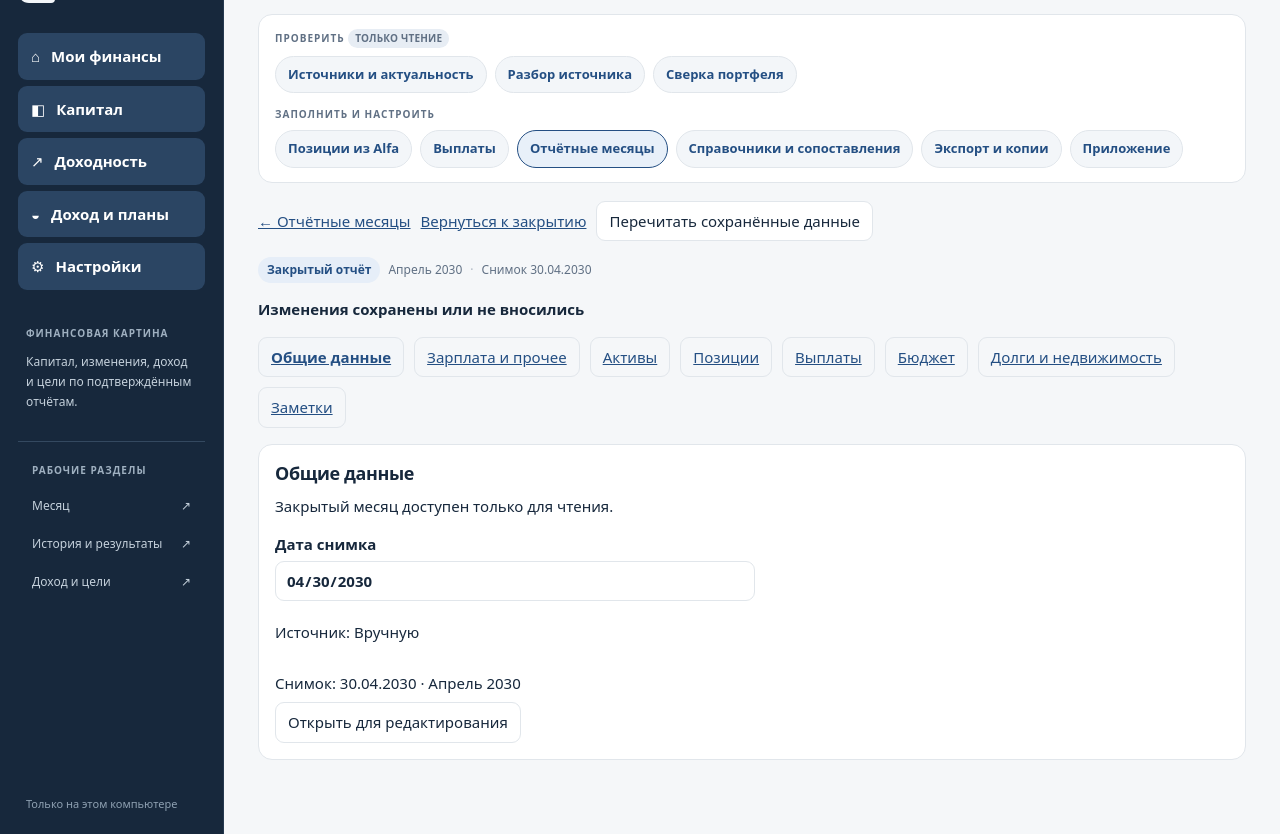
native month editor frame › keeps CLOSED read-only and refreshes after explicit reopen
The width and height of the screenshot is (1280, 834).
(page scrolled)
Expected: the element named "Общие данные месяца" is shown, [258,444,1246,760]
Expected: the date field labelled "Дата снимка" is disabled, [275,561,755,601]
Click the button "Открыть для редактирования" at x=398, y=723, box [275,702,521,743]
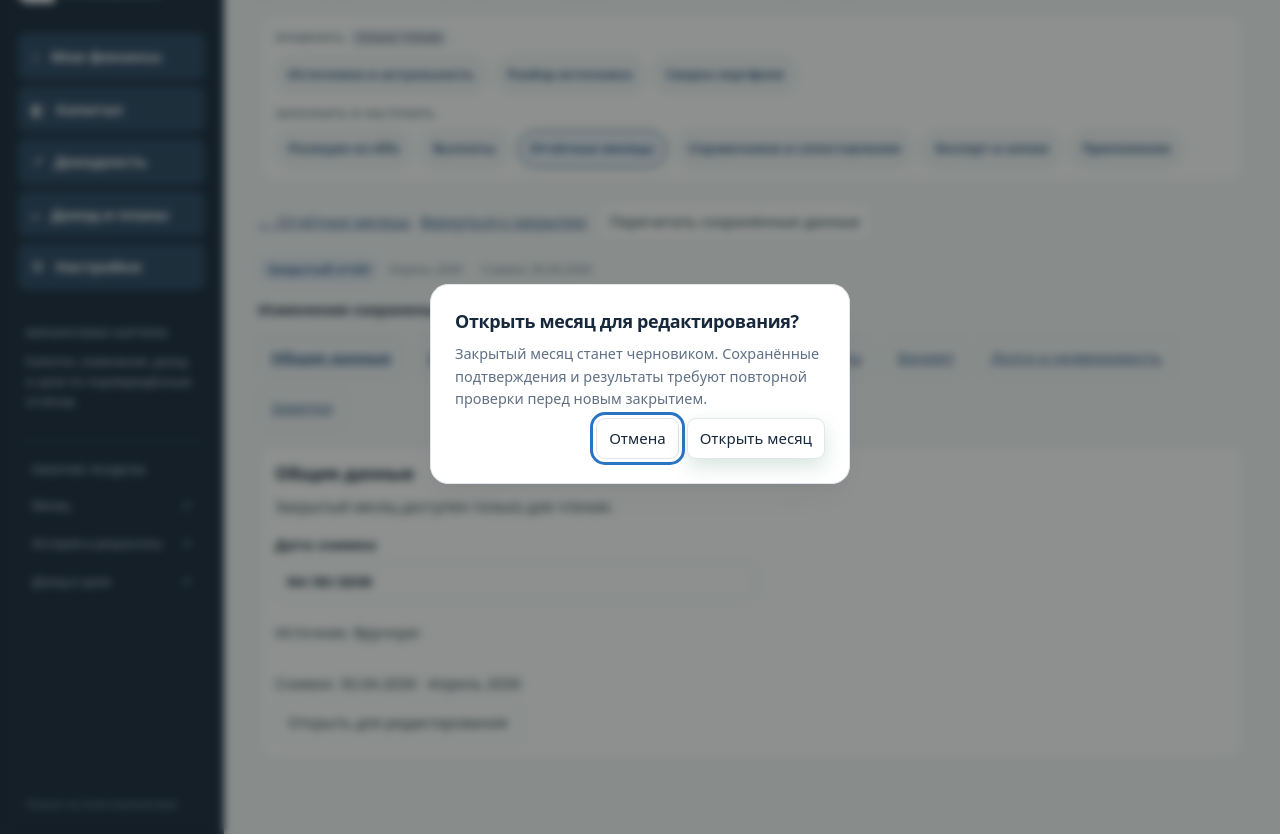
Click the button "Открыть месяц" at x=756, y=439, box [687,418,825,459]
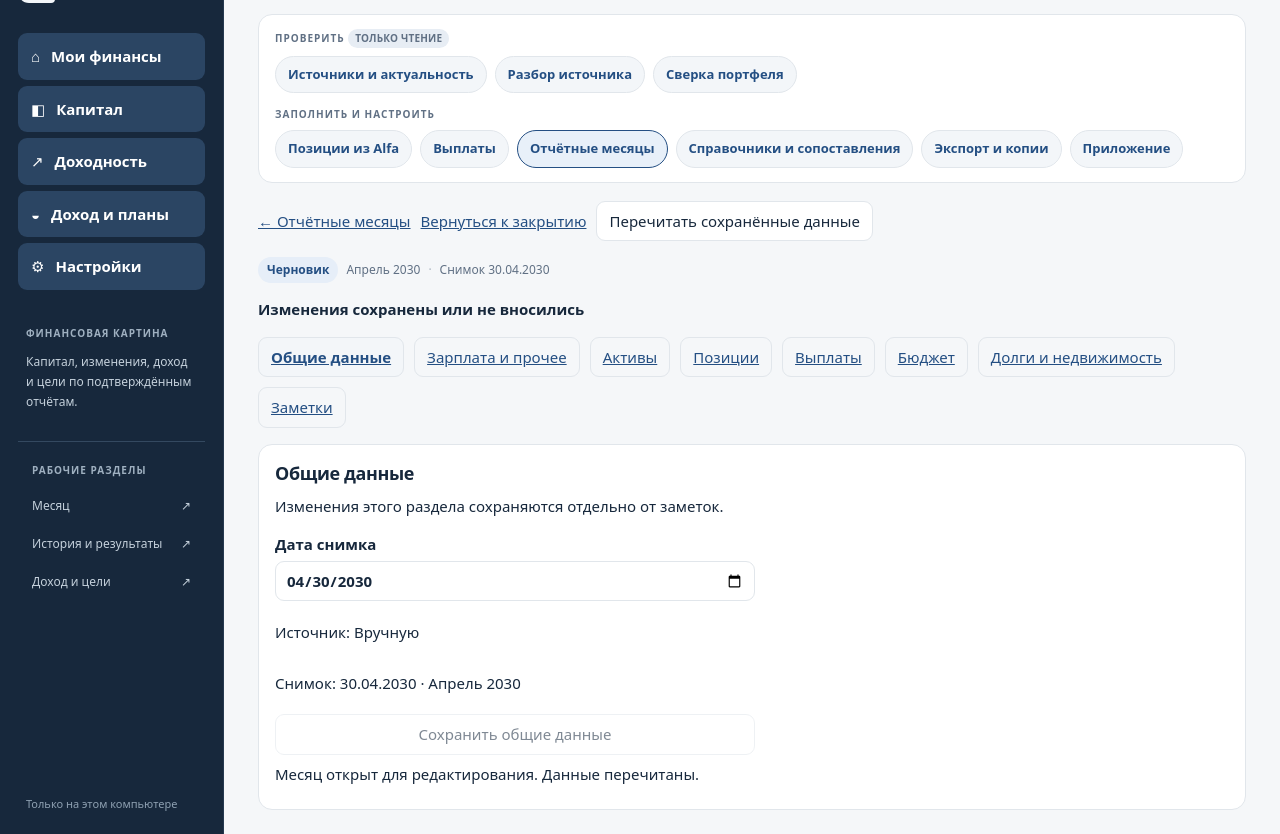
Expected: the text "Месяц открыт для редактирования. Данные перечитаны." is shown, [275,764,699,784]
Expected: the date field labelled "Дата снимка" is enabled, [275,561,755,601]
